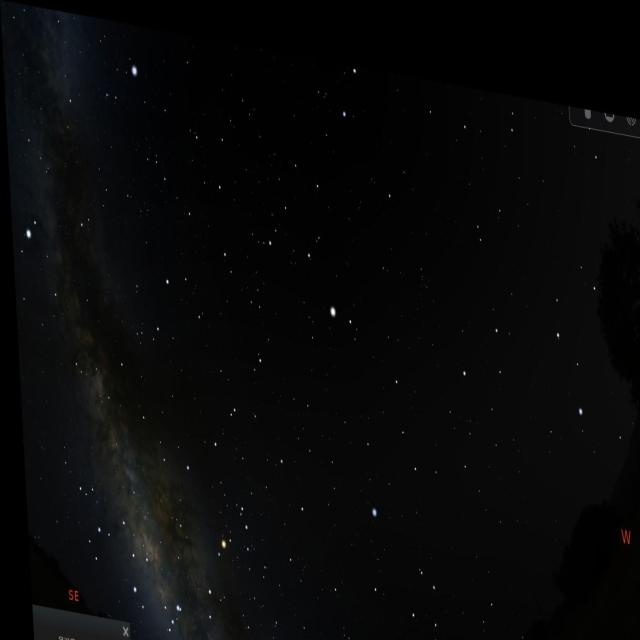aquila: (10, 195, 101, 393)
bootes: (266, 134, 366, 351)
leo: (445, 227, 610, 424)
lyra: (92, 40, 144, 119)
sagittarius: (69, 482, 158, 616)
scorpius: (152, 476, 261, 640)
